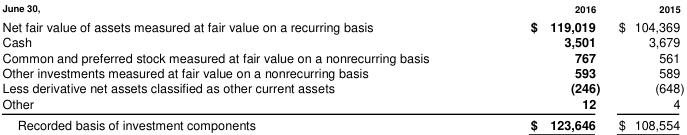table: (1, 0, 683, 132)
table column: (1, 0, 479, 132), (479, 0, 608, 132), (608, 0, 683, 132)
table column header: (1, 0, 683, 15)
table row: (1, 113, 683, 132), (1, 15, 683, 33), (1, 95, 683, 113), (1, 48, 683, 64), (1, 79, 683, 95), (1, 0, 683, 15), (1, 33, 683, 48), (1, 64, 683, 79)
